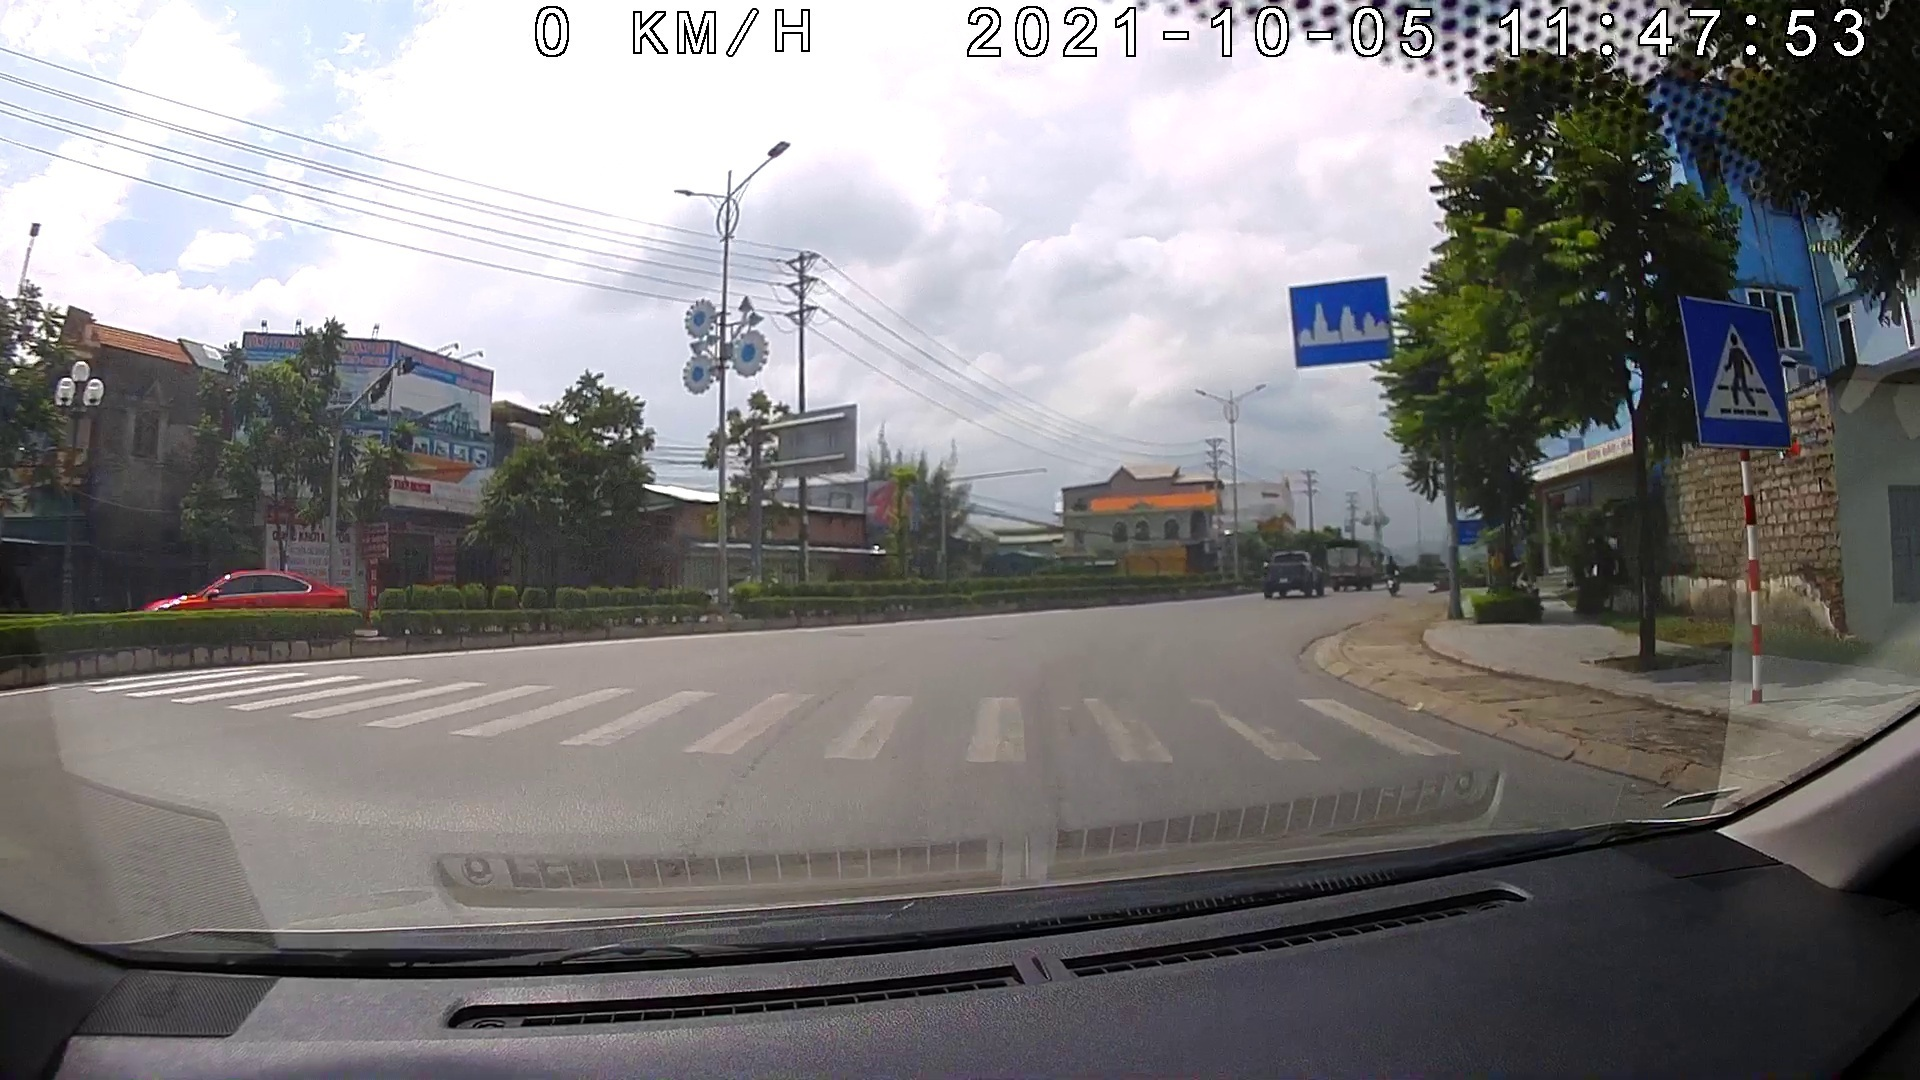Bien khac: (1290, 274, 1395, 369)
Nguoi di bo: (1673, 287, 1793, 454)
